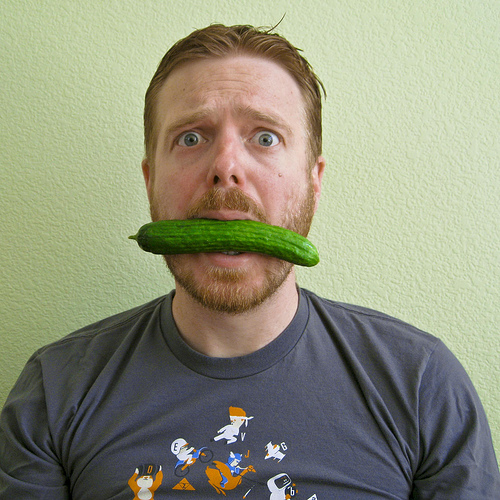cucumber: (126, 217, 317, 266)
